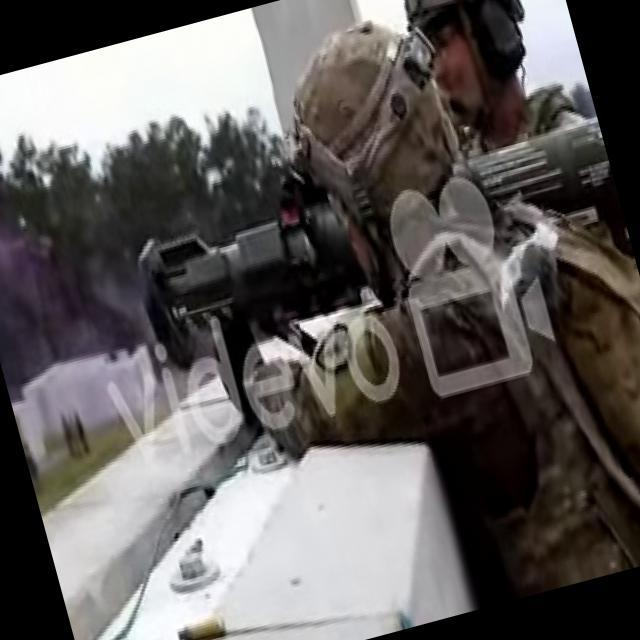rocket: (126, 108, 634, 380)
